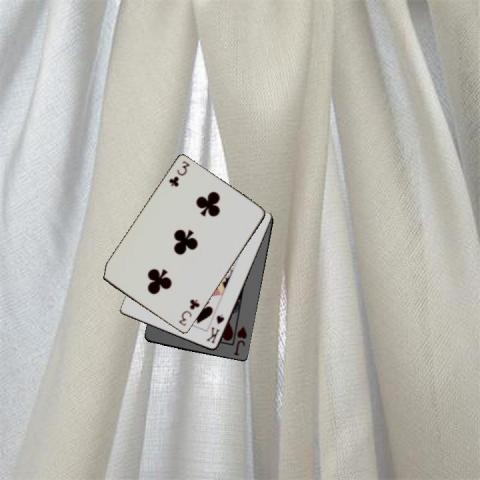3c: (176, 297, 201, 327), (166, 158, 191, 188)
Jh: (230, 324, 248, 358)
Ks: (203, 312, 226, 346)
